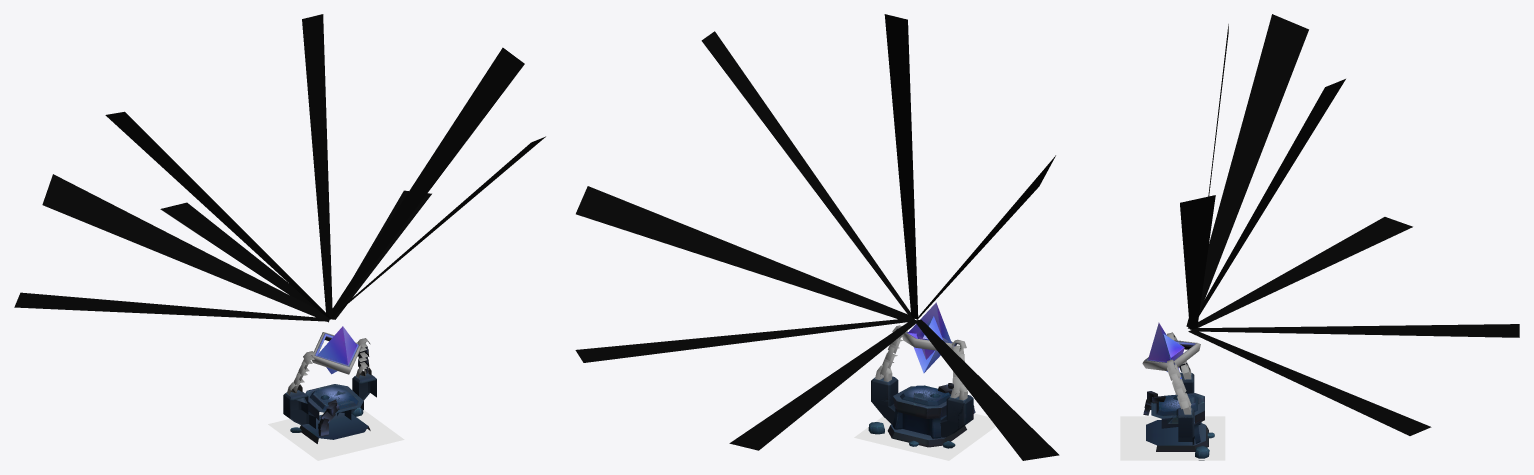
Rendered from [gimmick]sealstone1.fbx.
The picture shows the model from 3 angles, left to right: view 1: azimuth 30°, elevation 25°; view 2: azimuth 150°, elevation 25°; view 3: azimuth 270°, elevation 25°; orthographic projection. The views are drawn at different scales.
Parts seen in each view (by area): view 1: [gimmick]sealstone_light2, [gimmick]sealstone1, shadow, [gimmick]sealstone1_broken, [gimmick]sealstone_light1, crystal; view 2: [gimmick]sealstone_light2, [gimmick]sealstone1, shadow, [gimmick]sealstone1_broken, [gimmick]sealstone_light1, crystal; view 3: [gimmick]sealstone_light2, [gimmick]sealstone1, shadow, [gimmick]sealstone1_broken, [gimmick]sealstone_light1, crystal.
Part boxes in pixels (bbox=[...]): [gimmick]sealstone_light2: bbox=[14, 14, 545, 322]; [gimmick]sealstone1: bbox=[283, 333, 376, 443]; shadow: bbox=[268, 410, 404, 460]; [gimmick]sealstone1_broken: bbox=[284, 373, 373, 436]; [gimmick]sealstone_light1: bbox=[287, 332, 371, 394]; crystal: bbox=[317, 326, 356, 374]; [gimmick]sealstone_light2: bbox=[575, 14, 1059, 460]; [gimmick]sealstone1: bbox=[871, 328, 973, 447]; shadow: bbox=[854, 413, 995, 460]; [gimmick]sealstone1_broken: bbox=[868, 377, 975, 448]; [gimmick]sealstone_light1: bbox=[875, 325, 967, 400]; crystal: bbox=[908, 302, 951, 373]; [gimmick]sealstone_light2: bbox=[1180, 14, 1519, 435]; [gimmick]sealstone1: bbox=[1145, 335, 1208, 451]; shadow: bbox=[1120, 416, 1225, 460]; [gimmick]sealstone1_broken: bbox=[1143, 373, 1214, 460]; [gimmick]sealstone_light1: bbox=[1142, 332, 1200, 414]; crystal: bbox=[1148, 322, 1184, 378].
Bounding box in the file's own units: 6.73 × 5.29 × 4.61.
Materials: 4 (4 with a texture image).
